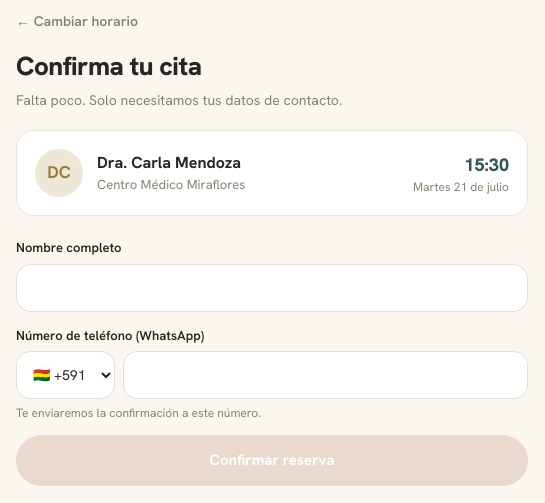
Test: BookingForm › disables submit until name and phone are valid
Expected: the button "Confirmar reserva" is disabled, [16,435,528,486]
In the field labelled "Nombre completo": (272, 288) [16,264,528,312], type "María Quispe"
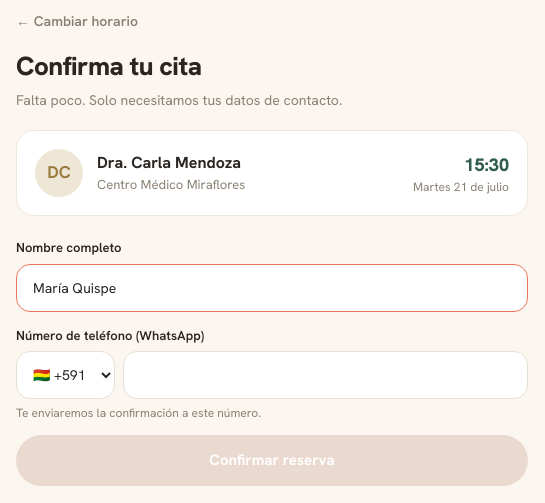
In the field labelled "Número de teléfono (WhatsApp)": (326, 375) [123,351,528,399], type "71234567"
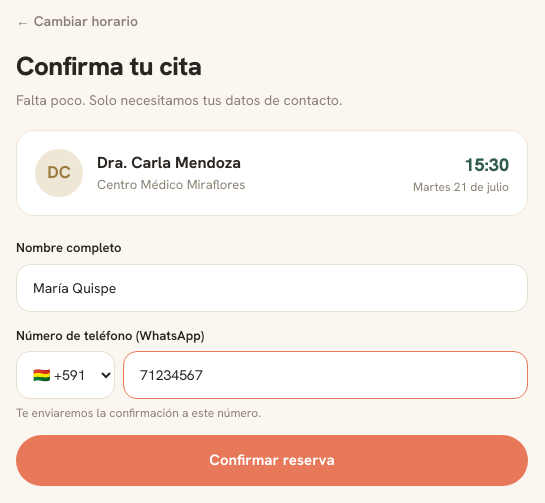
Result: the button "Confirmar reserva" is enabled at [16,435,528,486]
